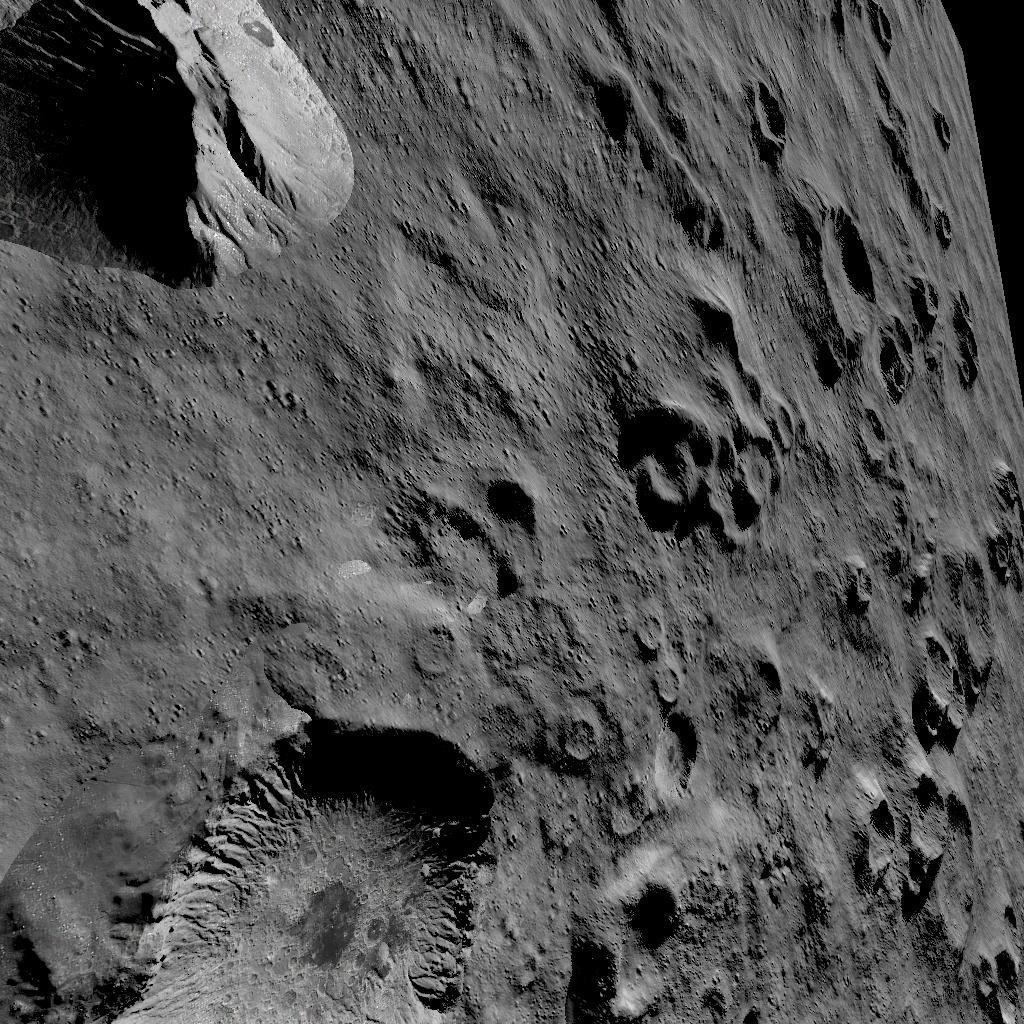Boulders: (0, 0, 362, 294)
Crater: (1, 706, 519, 1024), (605, 398, 816, 562), (377, 474, 562, 609), (563, 860, 700, 1024), (611, 608, 706, 842), (853, 768, 980, 918), (795, 192, 876, 386), (883, 276, 997, 401), (901, 628, 1005, 752), (977, 452, 1024, 585), (741, 74, 802, 154), (963, 946, 1024, 1024), (735, 648, 789, 736), (405, 618, 467, 681), (837, 560, 880, 622), (555, 710, 604, 764), (923, 196, 967, 250), (861, 0, 908, 49), (923, 102, 967, 150)
Plan surface: (1, 304, 367, 690), (381, 4, 596, 460)
